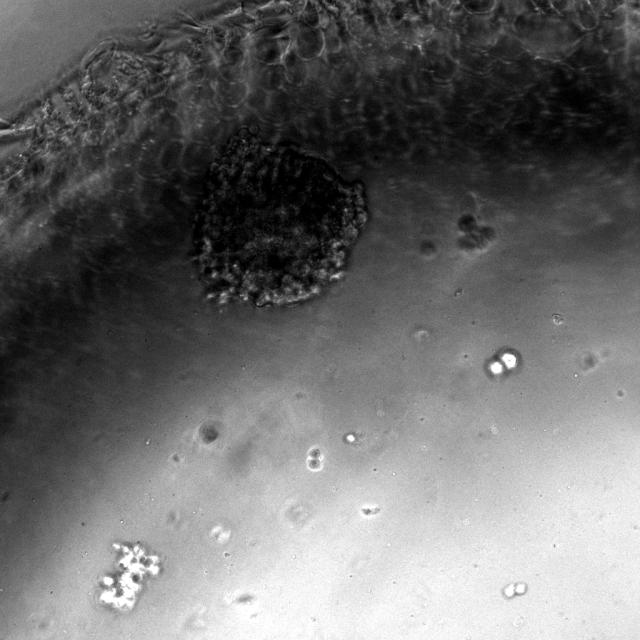organoid: (192, 129, 367, 307), (99, 542, 161, 612), (458, 214, 495, 250), (484, 348, 521, 379), (502, 581, 528, 599), (307, 447, 323, 472), (199, 423, 218, 443), (420, 239, 437, 257)
